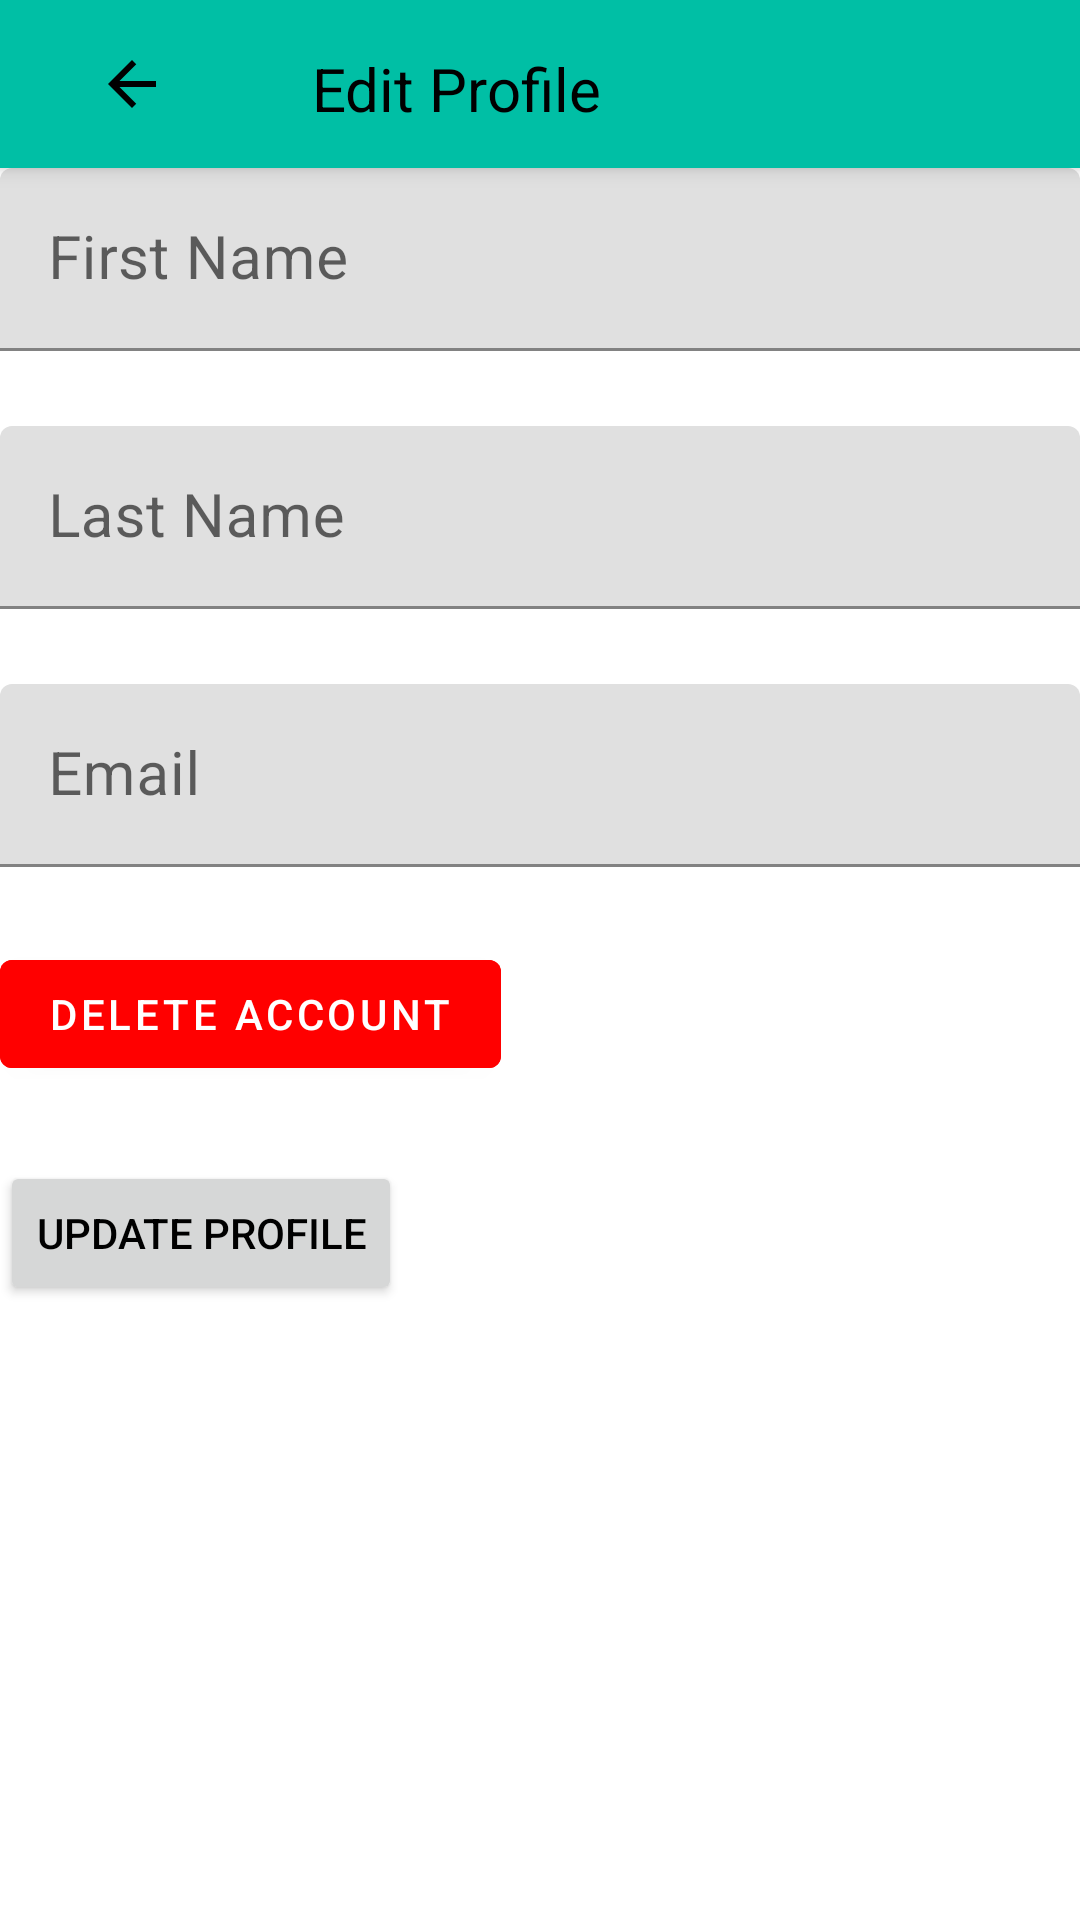

Icons on this 1080×1920 Android screen, each with the point to tap as (x=x, y=y):
back arrow: (x=132, y=84)
